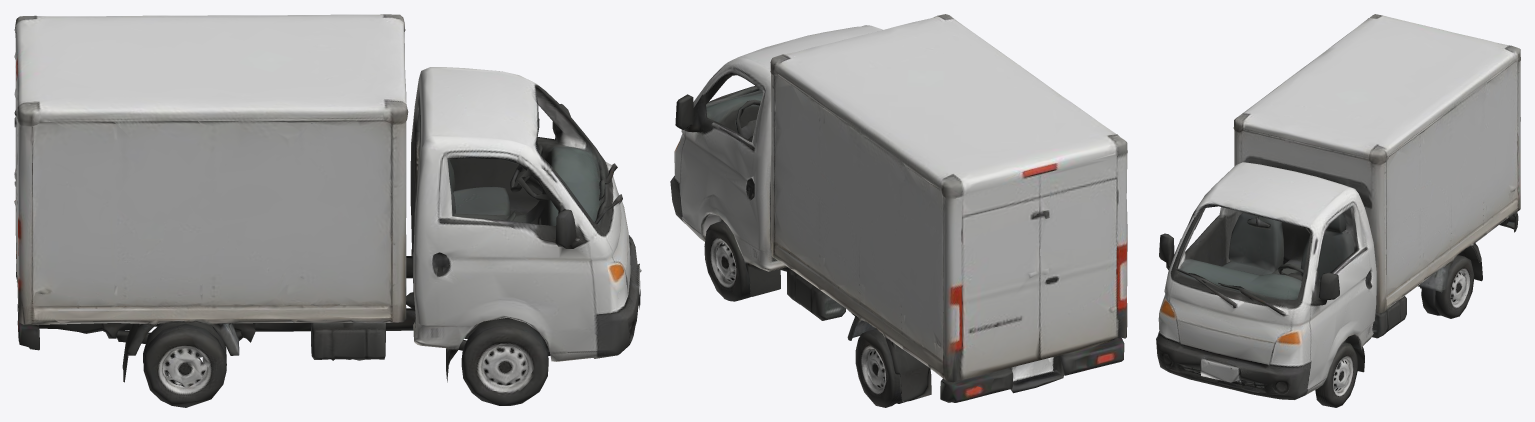
Rendered from truck.glb.
3 renders of one model, left to right at view 1: azimuth 30°, elevation 25°; view 2: azimuth 150°, elevation 25°; view 3: azimuth 270°, elevation 25°, orthographic. The views are drawn at different scales.
Visible parts, largest first — view 1: tripo_node_0b3ca764-6da8-48dc-b93c-7bfd7e82c9d9; view 2: tripo_node_0b3ca764-6da8-48dc-b93c-7bfd7e82c9d9; view 3: tripo_node_0b3ca764-6da8-48dc-b93c-7bfd7e82c9d9.
Part boxes in pixels (x1,y1,x2,y2): tripo_node_0b3ca764-6da8-48dc-b93c-7bfd7e82c9d9: [14, 14, 641, 407]; tripo_node_0b3ca764-6da8-48dc-b93c-7bfd7e82c9d9: [670, 14, 1127, 407]; tripo_node_0b3ca764-6da8-48dc-b93c-7bfd7e82c9d9: [1156, 14, 1520, 407].
Bounding box in the file's own units: 4.75 × 2.5 × 3.64.
Materials: 1 (1 with a texture image).
